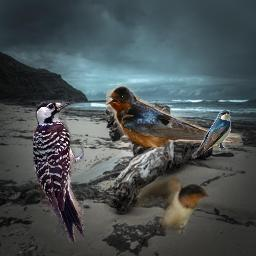Swallow: (106, 85, 243, 147), (135, 175, 209, 235), (190, 108, 233, 159)
Woodpecker: (33, 99, 84, 243)
